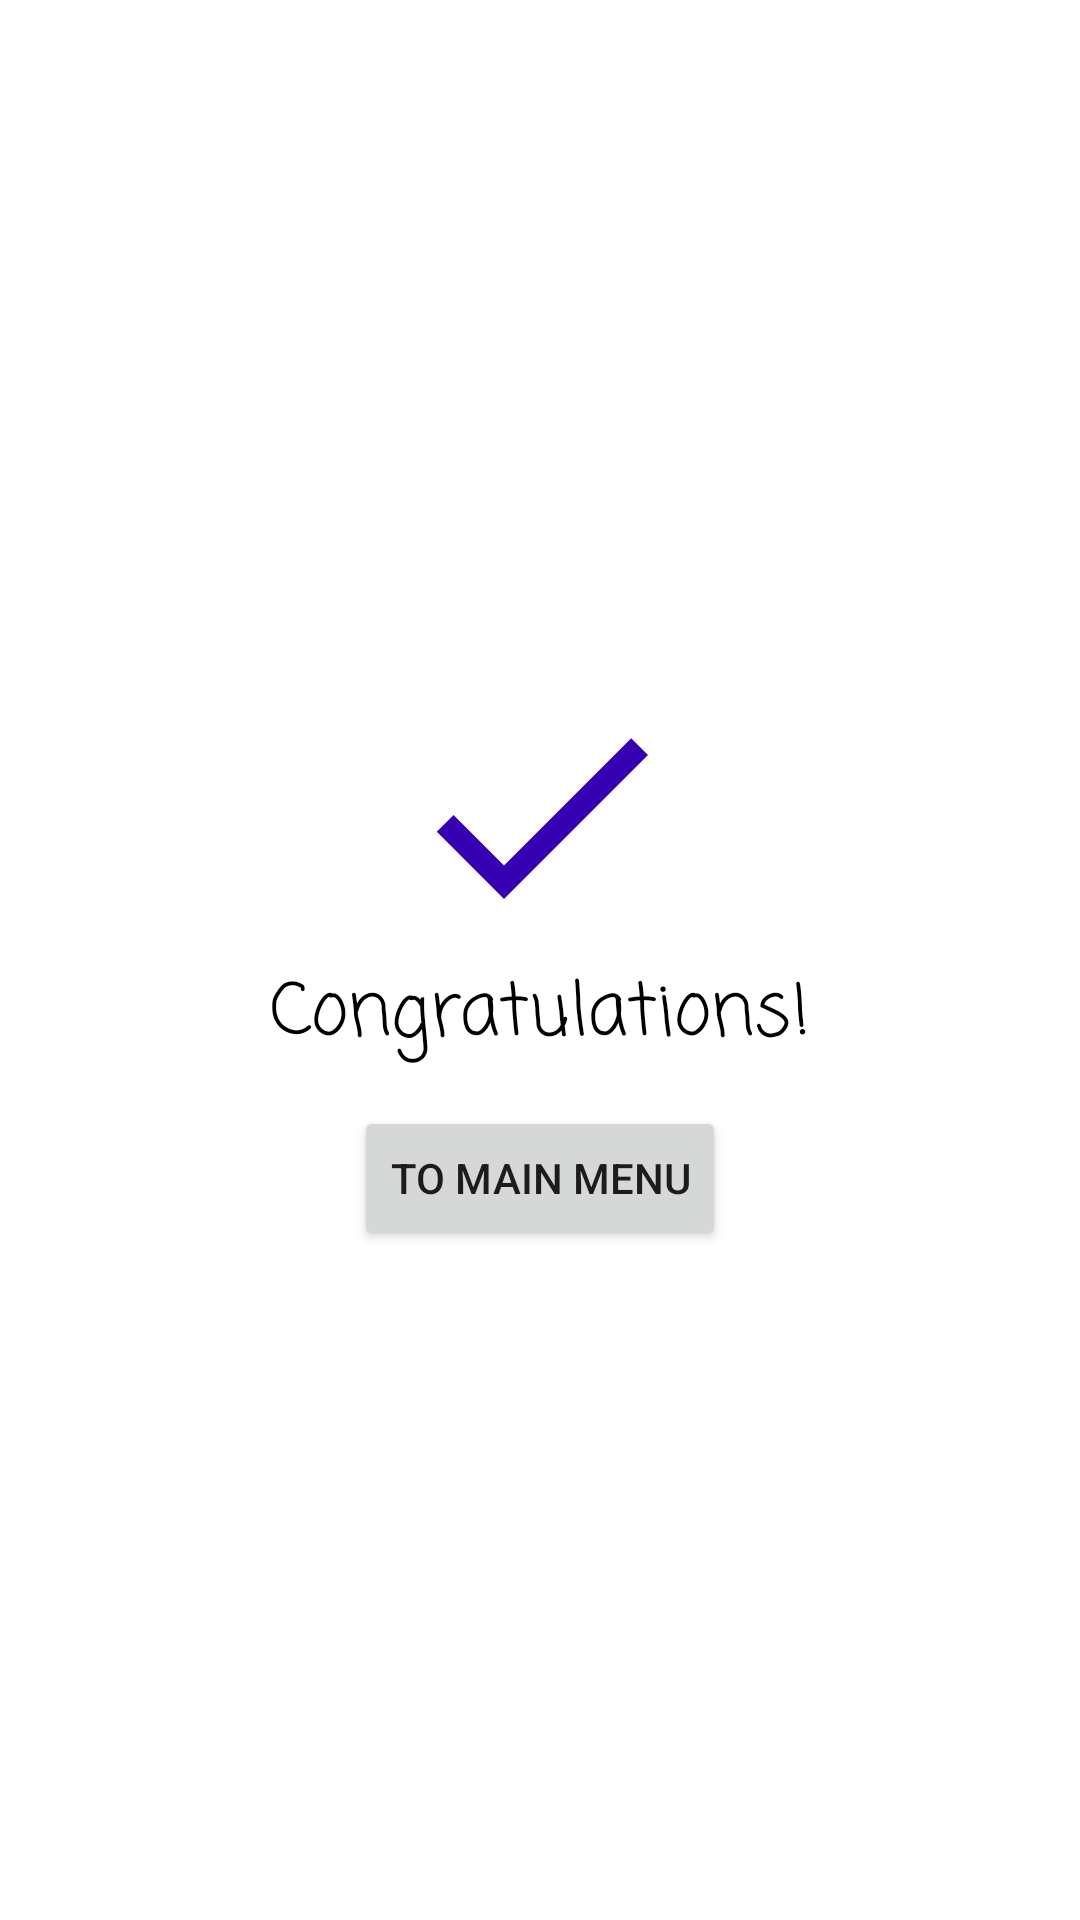

Where icons sit on this 1080*1920 app screen, as box(x1, y1, x2, y2):
Done icon: box(437, 738, 648, 899)
